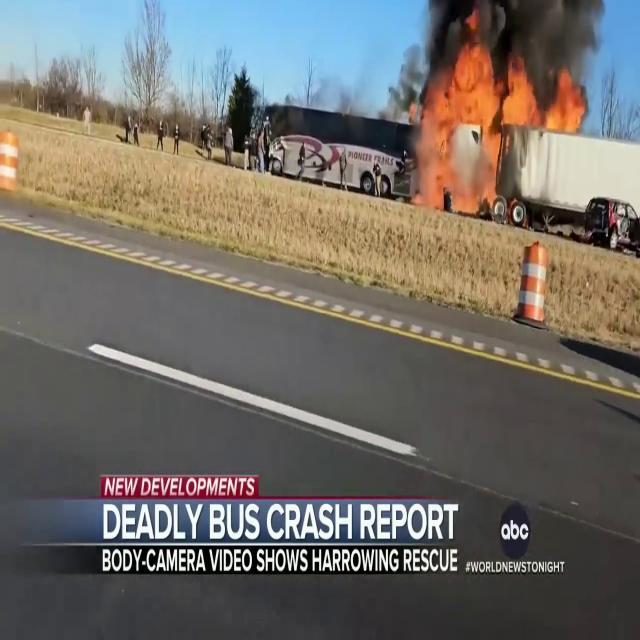Fire: (411, 36, 593, 210)
Smoke: (408, 0, 629, 81)
